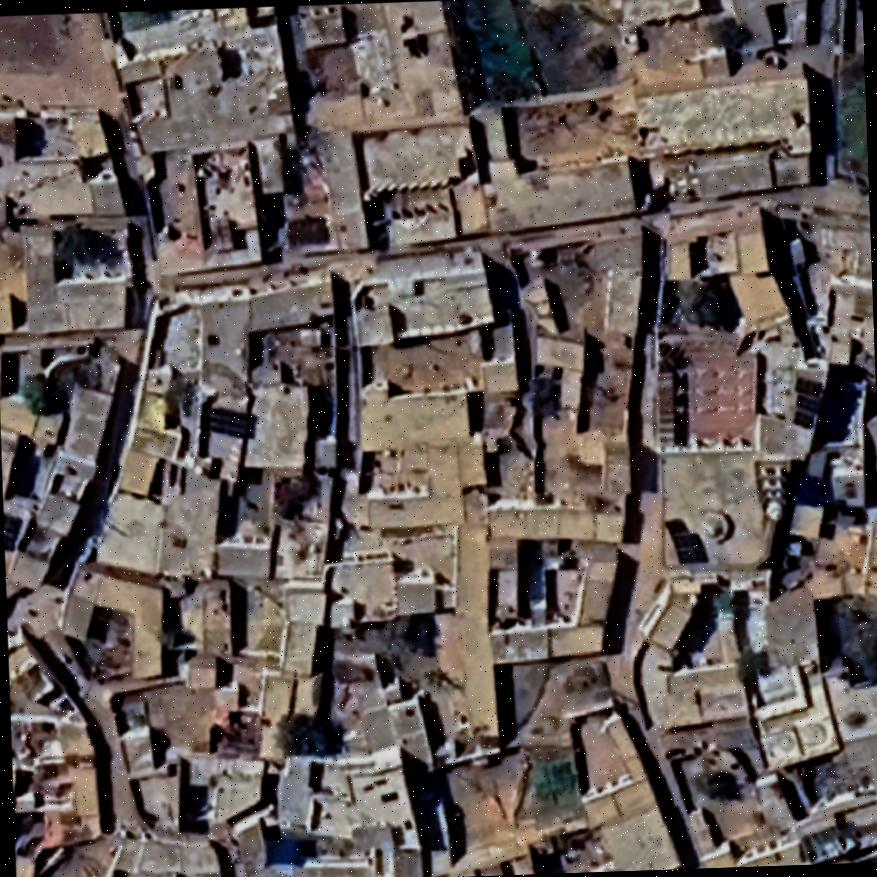Solarpanel: (786, 370, 830, 433), (202, 401, 261, 447), (672, 527, 709, 568)
